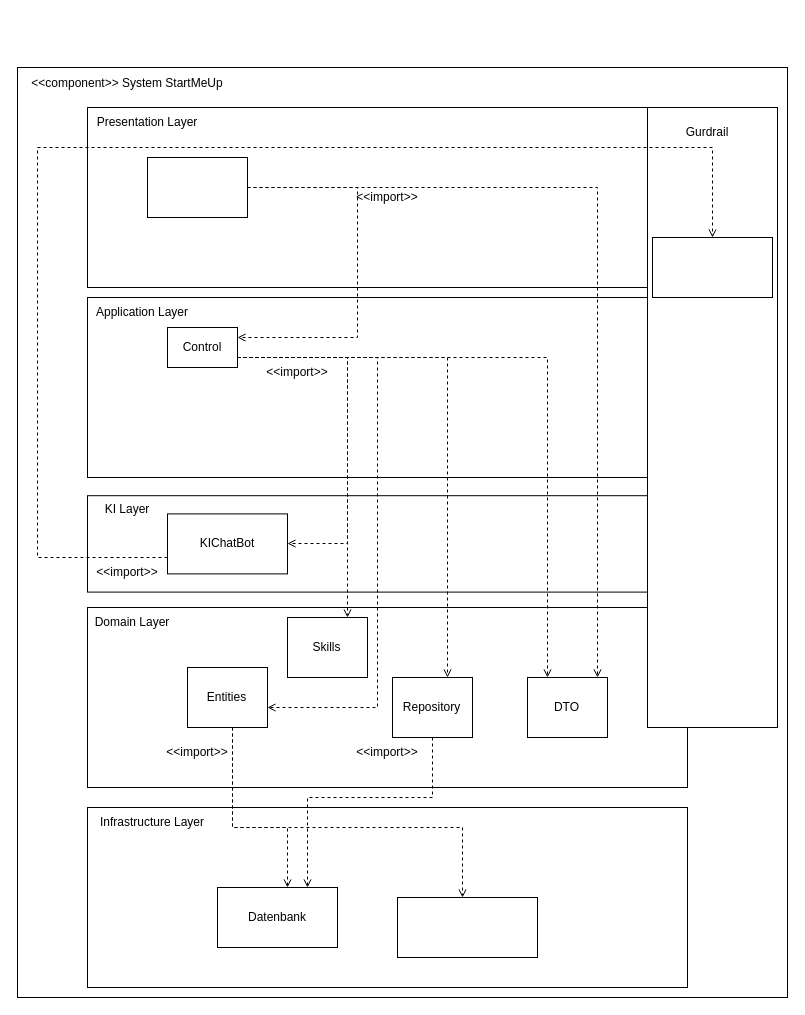
This 805x1015 diagram has some shape labels left out. The shapes that lost their labels are listed below. From the top down, each one's box as (x1, y1, x2, y2) in pixels, then its label:
(146, 156, 248, 218): Views
(652, 236, 772, 298): KIGurd
(396, 896, 538, 958): JPA
